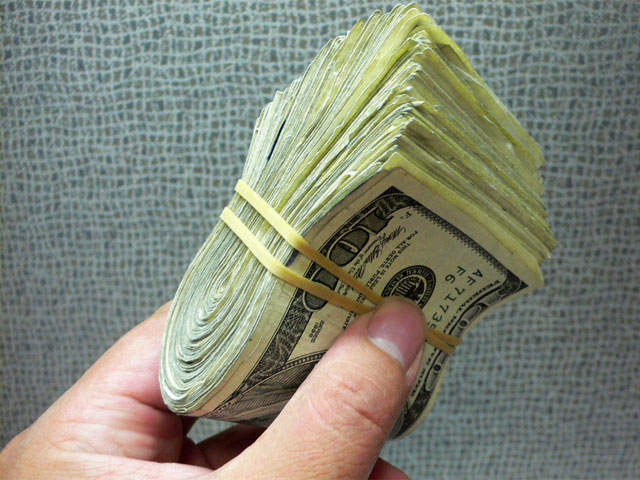billete: (157, 1, 562, 449)
